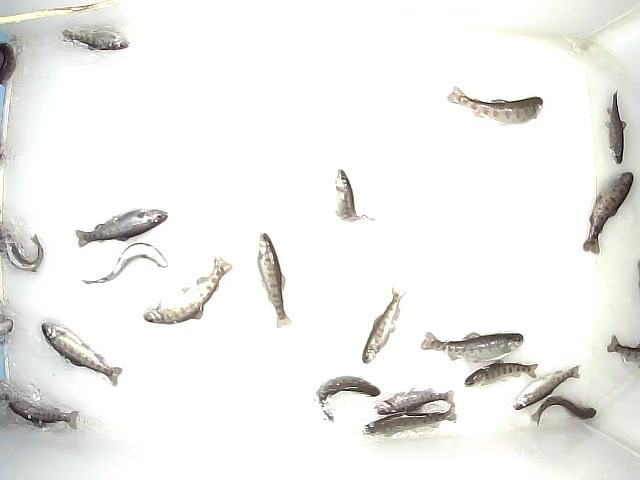fish: (142, 255, 236, 323), (39, 320, 127, 390), (580, 169, 636, 255), (252, 230, 296, 329), (71, 204, 170, 248), (419, 323, 526, 362), (359, 287, 406, 367), (449, 83, 546, 121), (510, 364, 584, 412), (312, 374, 382, 422), (1, 394, 82, 432), (363, 402, 459, 433), (371, 385, 457, 413), (596, 88, 627, 165), (333, 169, 376, 223), (462, 359, 539, 387), (57, 26, 132, 52), (533, 404, 601, 428)
